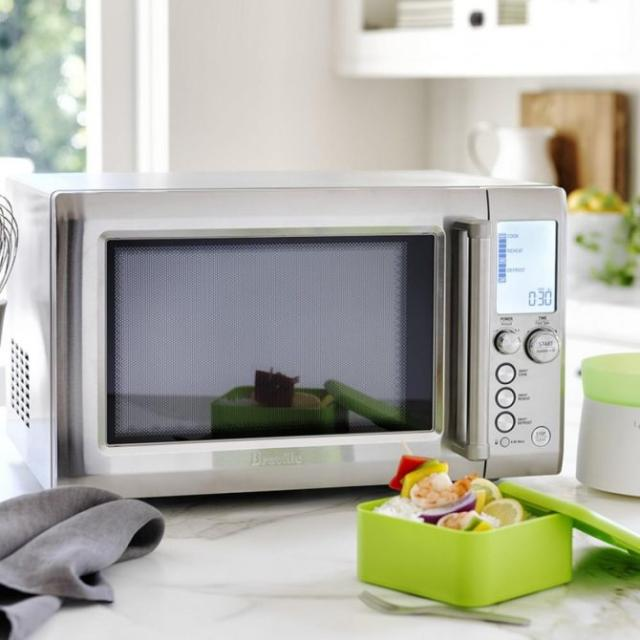Microwave: (3, 170, 579, 502)
